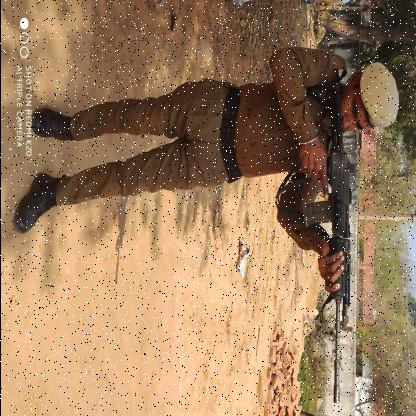rifle: (299, 79, 357, 405)
